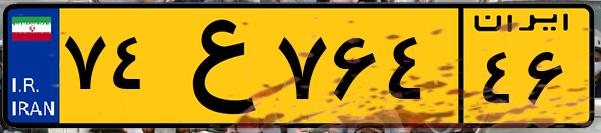4: (385, 28, 445, 110), (475, 38, 525, 113), (110, 28, 158, 98)
6: (330, 28, 385, 110), (525, 38, 570, 115)
7: (270, 28, 330, 110), (57, 26, 110, 100)
ع: (158, 12, 270, 120)
